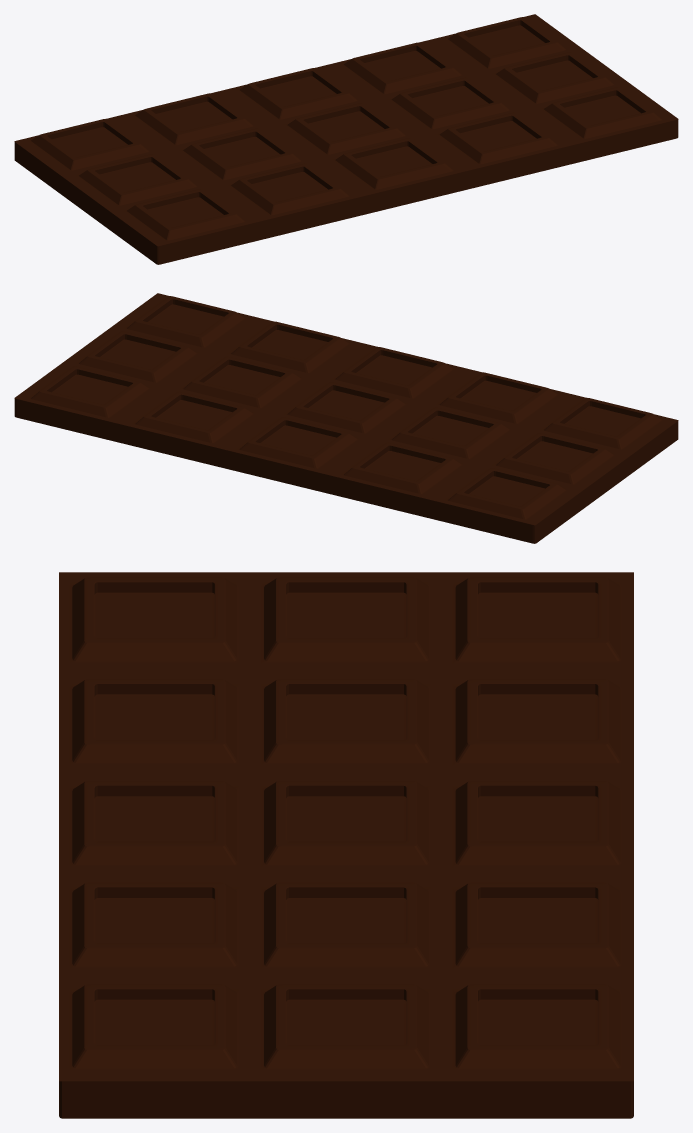
File: チョコ.fbx
3 views of the same model, one above another, from view 1: azimuth 30°, elevation 25°; view 2: azimuth 150°, elevation 25°; view 3: azimuth 270°, elevation 25° (orthographic). The views are drawn at different scales.
Parts seen in each view (by area): view 1: 立方体; view 2: 立方体; view 3: 立方体.
Part boxes in pixels (x1,y1,x2,y2): 立方体: (14, 14, 678, 264); 立方体: (14, 293, 678, 543); 立方体: (59, 572, 633, 1118).
Size of the model in its own units: 1209 by 56.36 by 577.
